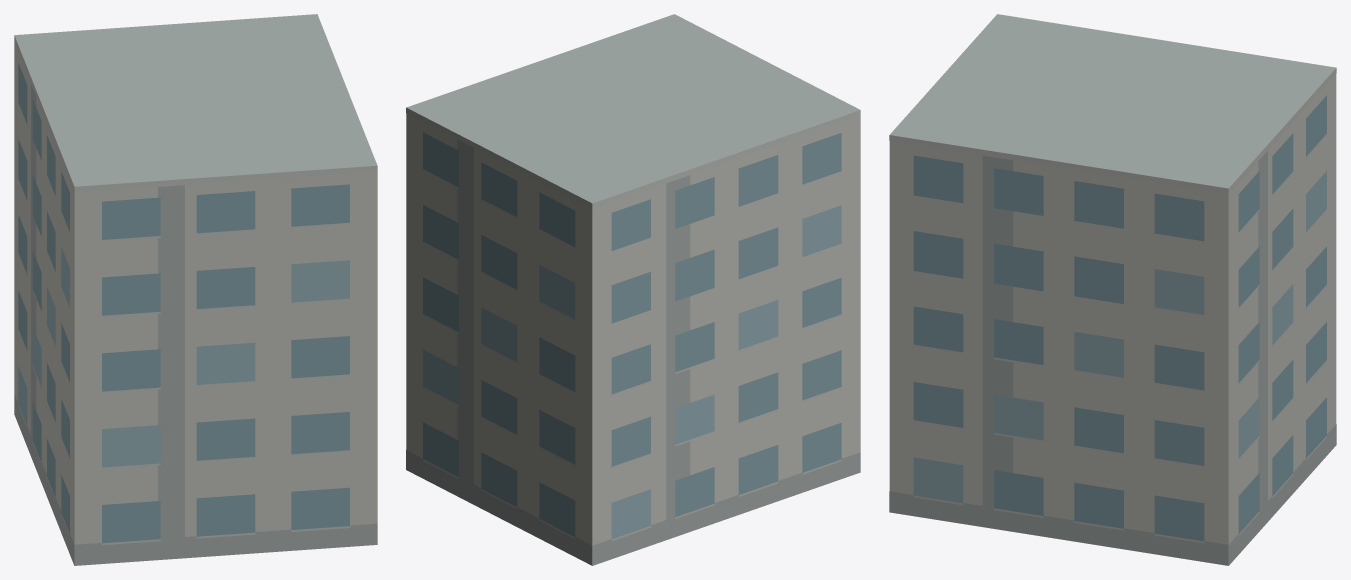
Rendered from survey-upis-32720701.glb.
The picture shows the model from 3 angles, left to right: view 1: azimuth 30°, elevation 25°; view 2: azimuth 150°, elevation 25°; view 3: azimuth 270°, elevation 25°; orthographic projection. The views are drawn at different scales.
Visible parts, largest first — view 1: survey-upis-32720701.tmp; view 2: survey-upis-32720701.tmp; view 3: survey-upis-32720701.tmp.
Part boxes in pixels (left/top/right/bottom): survey-upis-32720701.tmp: left=14, top=14, right=377, bottom=565; survey-upis-32720701.tmp: left=406, top=14, right=860, bottom=565; survey-upis-32720701.tmp: left=889, top=14, right=1336, bottom=565.
Bounding box in the file's own units: 15.13 × 15.25 × 16.38.
